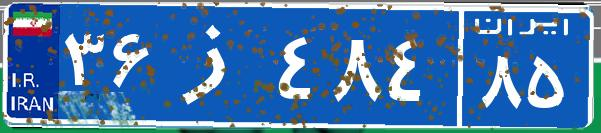3: (57, 26, 110, 107)
4: (385, 28, 445, 110), (273, 28, 330, 110)
5: (525, 38, 570, 115)
6: (110, 28, 158, 105)
8: (330, 28, 385, 110), (475, 38, 525, 113)
ز: (158, 15, 273, 115)
